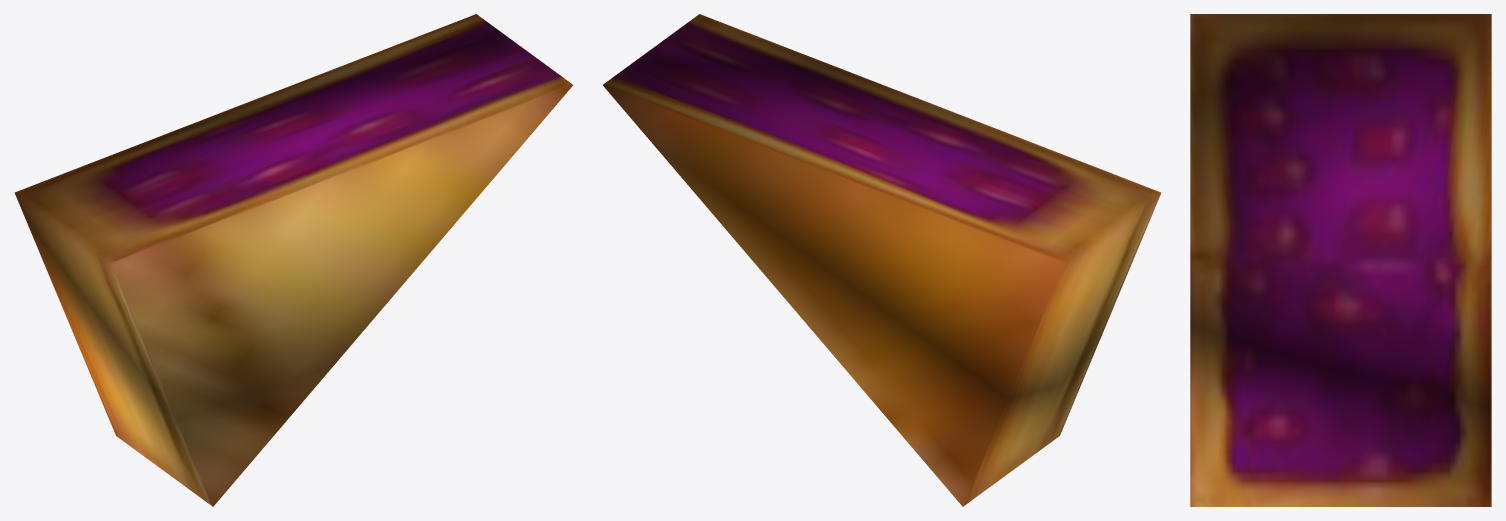
The model's file is fruitpie-slice.glb.
3 views of the same model, side by side, from view 1: azimuth 30°, elevation 25°; view 2: azimuth 150°, elevation 25°; view 3: azimuth 270°, elevation 25° (orthographic). The views are drawn at different scales.
Parts seen in each view (by area): view 1: fruit-pie-slice; view 2: fruit-pie-slice; view 3: fruit-pie-slice.
Boxes of the visible parts, x1,y1,x2,y2 form: fruit-pie-slice: (14, 14, 572, 506); fruit-pie-slice: (603, 14, 1161, 506); fruit-pie-slice: (1190, 14, 1491, 506).
Size of the model in its own units: 1.15 by 0.7918 by 0.4171.
Materials: 1 (1 with a texture image).
